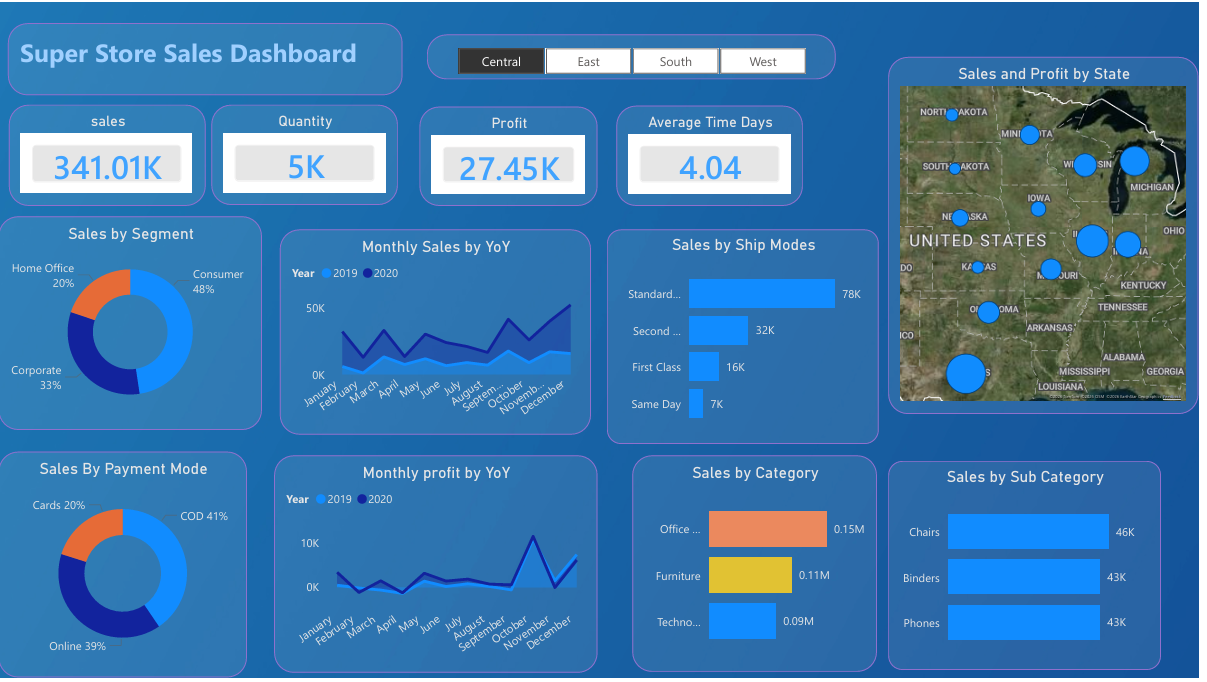

The dashboard page shown, as its layout file describes it:
{"tool":"powerbi","page":{"name":"Page 1","canvas":[1280,720],"ordinal":0},"visuals":[{"type":"stackedAreaChart","title":"Monthly Sales by YoY","fields":{"Y":["Sum(SuperStore_Sales_Dataset.Sales)"],"Category":["SuperStore_Sales_Dataset.OrderDate.Variation.Date Hierarchy.Month","SuperStore_Sales_Dataset.OrderDate.Variation.Date Hierarchy.Day"],"Series":["SuperStore_Sales_Dataset.OrderDate.Variation.Date Hierarchy.Year"]},"box":[300.4,242.5,331.8,218.4],"z":0},{"type":"clusteredBarChart","title":"Sales by Category","fields":{"Category":["SuperStore_Sales_Dataset.Category"],"Y":["Sum(SuperStore_Sales_Dataset.Sales)"]},"box":[675.6,482.6,261.8,231.6],"z":1000},{"type":"clusteredBarChart","title":" Sales by Sub Category","fields":{"Category":["SuperStore_Sales_Dataset.Sub-Category"],"Y":["Sum(SuperStore_Sales_Dataset.Sales)"]},"box":[949.5,488.6,290.8,223.2],"z":2000},{"type":"stackedAreaChart","title":"Monthly profit by YoY","fields":{"Category":["SuperStore_Sales_Dataset.OrderDate.Variation.Date Hierarchy.Month","SuperStore_Sales_Dataset.OrderDate.Variation.Date Hierarchy.Day"],"Series":["SuperStore_Sales_Dataset.OrderDate.Variation.Date Hierarchy.Year"],"Y":["Sum(SuperStore_Sales_Dataset.Profit)"]},"box":[294.4,482.6,345,232.8],"z":3000},{"type":"clusteredBarChart","title":" Sales by Ship Modes","fields":{"Category":["SuperStore_Sales_Dataset.Ship Mode"],"Y":["Sum(SuperStore_Sales_Dataset.Sales)"]},"box":[649.1,242.5,289.5,228],"z":4000},{"type":"azureMap","title":"Sales and Profit by State","fields":{"Category":["SuperStore_Sales_Dataset.State"],"Size":["Sum(SuperStore_Sales_Dataset.Sales)"]},"box":[949.5,57.9,330.6,381.2],"z":5000},{"type":"donutChart","title":"Sales by Segment","fields":{"Category":["SuperStore_Sales_Dataset.Segment"],"Y":["Sum(SuperStore_Sales_Dataset.Sales)"]},"box":[0,228,281.1,228],"z":6000},{"type":"donutChart","title":"Sales By Payment Mode","fields":{"Category":["SuperStore_Sales_Dataset.Payment Mode"],"Y":["Sum(SuperStore_Sales_Dataset.Sales)"]},"box":[0,479,265.4,241.3],"z":7000},{"type":"slicer","fields":{"Values":["SuperStore_Sales_Dataset.Region"]},"box":[457.2,33.8,435.5,48.3],"z":8000},{"type":"textbox","box":[9.7,21.7,421,77.2],"z":9000},{"type":"cardVisual","title":"sales","fields":{"Data":["Sum(SuperStore_Sales_Dataset.Sales)"]},"box":[10.9,108.6,209.9,108.6],"z":10000},{"type":"cardVisual","title":"Quantity","fields":{"Data":["Sum(SuperStore_Sales_Dataset.Quantity)"]},"box":[226.8,108.6,199.1,107.4],"z":11000},{"type":"cardVisual","title":"Profit","fields":{"Data":["Sum(SuperStore_Sales_Dataset.Profit)"]},"box":[448.8,111,190.6,106.2],"z":12000},{"type":"cardVisual","title":"Average Time Days","fields":{"Data":["Avg(SuperStore_Sales_Dataset.AvgDelivery)"]},"box":[658.7,109.8,199.1,107.4],"z":13000}]}

Visuals, with their boxes in screenshot pixels (x1, y1, x2, y2), scaled from the page's 1280x720 canvas onto the 1207x682 screenshot:
"Monthly Sales by YoY" stackedAreaChart: (x1=283, y1=230, x2=596, y2=437)
"Sales by Category" clusteredBarChart: (x1=637, y1=457, x2=884, y2=677)
" Sales by Sub Category" clusteredBarChart: (x1=895, y1=463, x2=1170, y2=674)
"Monthly profit by YoY" stackedAreaChart: (x1=278, y1=457, x2=603, y2=678)
" Sales by Ship Modes" clusteredBarChart: (x1=612, y1=230, x2=885, y2=446)
"Sales and Profit by State" azureMap: (x1=895, y1=55, x2=1206, y2=416)
"Sales by Segment" donutChart: (x1=0, y1=216, x2=265, y2=432)
"Sales By Payment Mode" donutChart: (x1=0, y1=454, x2=250, y2=681)
slicer - SuperStore_Sales_Dataset.Region: (x1=431, y1=32, x2=842, y2=78)
textbox: (x1=9, y1=21, x2=406, y2=94)
"sales" cardVisual: (x1=10, y1=103, x2=208, y2=206)
"Quantity" cardVisual: (x1=214, y1=103, x2=402, y2=205)
"Profit" cardVisual: (x1=423, y1=105, x2=603, y2=206)
"Average Time Days" cardVisual: (x1=621, y1=104, x2=809, y2=206)
